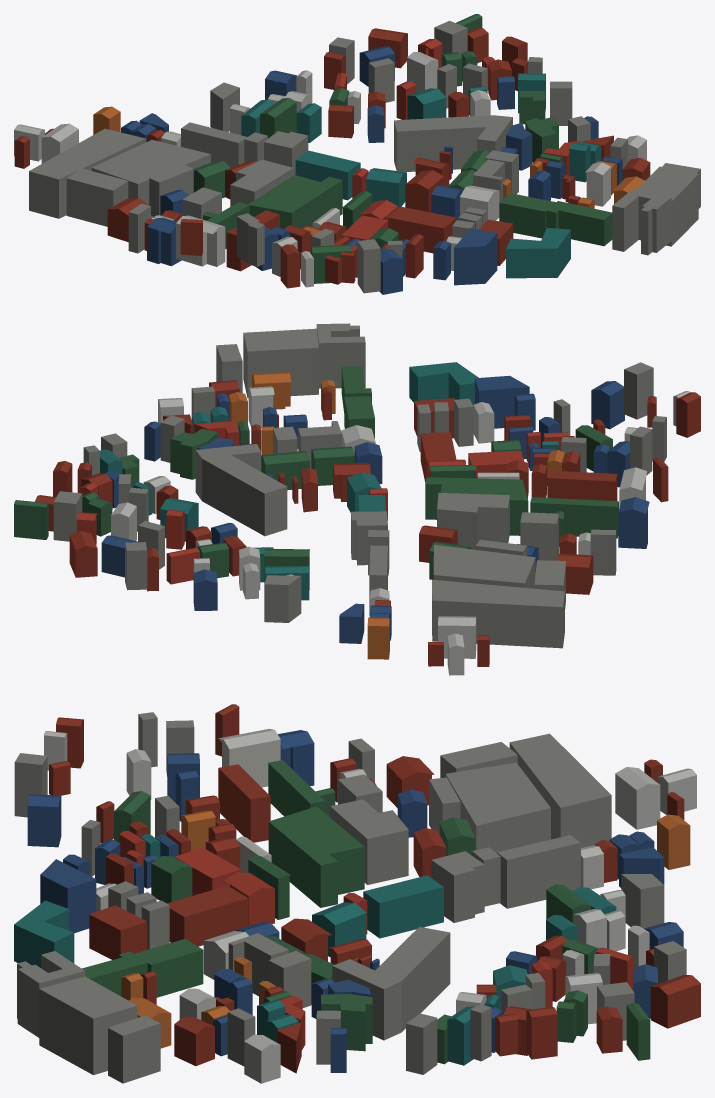
File: near-17-109442-59465.864834cc.glb
The picture shows the model from 3 angles, top to bottom: view 1: azimuth 30°, elevation 25°; view 2: azimuth 150°, elevation 25°; view 3: azimuth 270°, elevation 25°; orthographic projection. The views are drawn at different scales.
Size of the model in its own units: 319 by 53.91 by 300.
